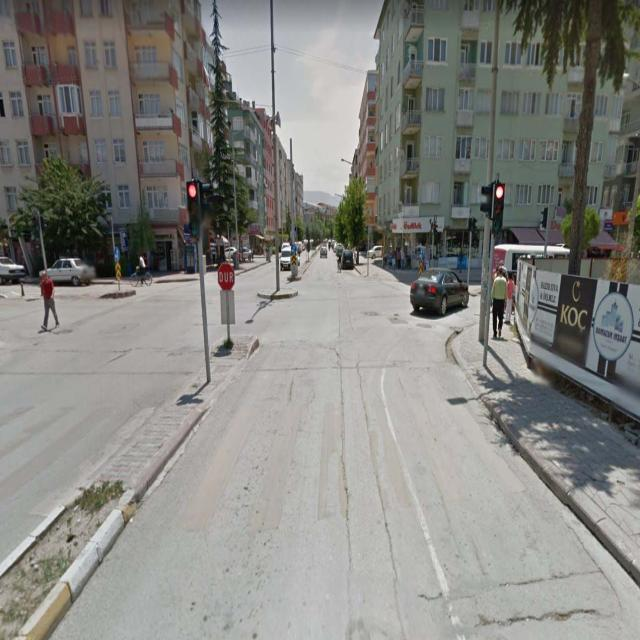dur: (216, 262, 236, 292)
kirmizi: (186, 182, 201, 237), (494, 184, 505, 228)
